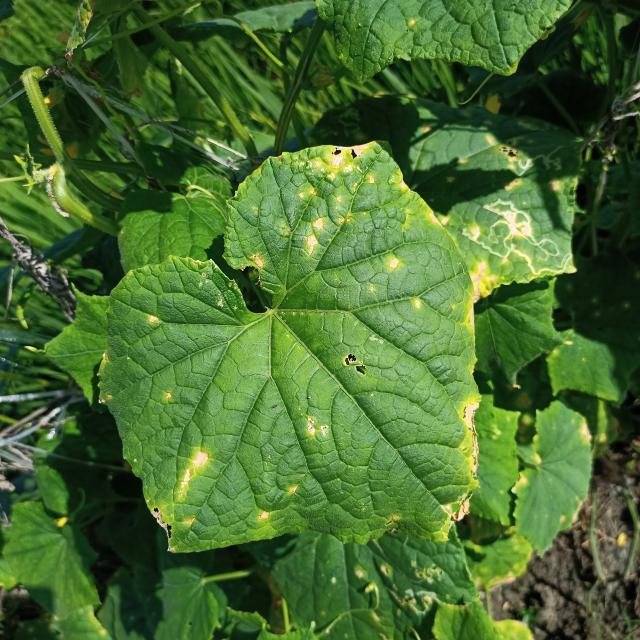disease_cucumber: (278, 144, 379, 258), (156, 448, 202, 528), (458, 262, 503, 338), (457, 398, 489, 481), (304, 414, 331, 439), (148, 311, 158, 328), (388, 256, 398, 272), (287, 485, 298, 496), (260, 510, 270, 522), (413, 297, 421, 310)
